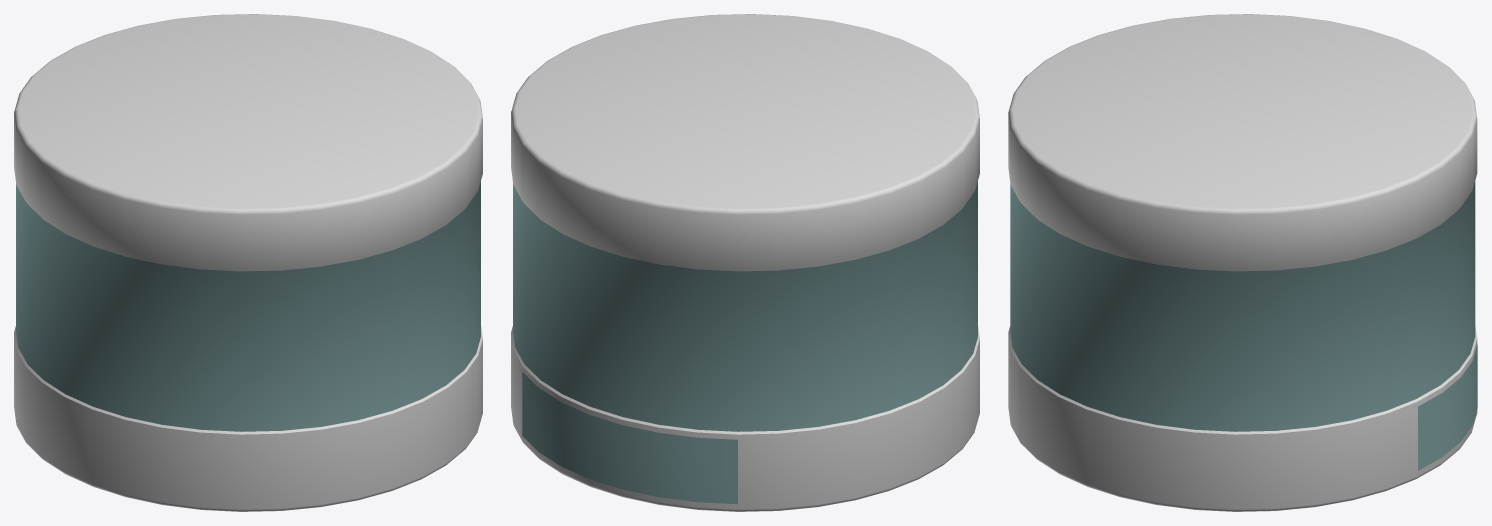
Rendered from puck.gltf.
3 views of the same model, side by side, from view 1: azimuth 30°, elevation 25°; view 2: azimuth 150°, elevation 25°; view 3: azimuth 270°, elevation 25° (orthographic).
Parts seen in each view (by area): view 1: Puck-Lidar Case, Puck-Lidar Lens; view 2: Puck-Lidar Case, Puck-Lidar Lens, Velodyne_Logo_Decal; view 3: Puck-Lidar Case, Puck-Lidar Lens, Velodyne_Logo_Decal.
Part boxes in pixels (<box>): Puck-Lidar Case: <box>14,14,482,511</box>; Puck-Lidar Lens: <box>16,181,480,431</box>; Puck-Lidar Case: <box>511,14,979,511</box>; Puck-Lidar Lens: <box>513,181,977,431</box>; Velodyne_Logo_Decal: <box>522,372,737,504</box>; Puck-Lidar Case: <box>1008,14,1477,511</box>; Puck-Lidar Lens: <box>1010,181,1475,431</box>; Velodyne_Logo_Decal: <box>1418,344,1477,470</box>.
Bounding box in the file's own units: 10.11 × 7.2 × 10.12.
